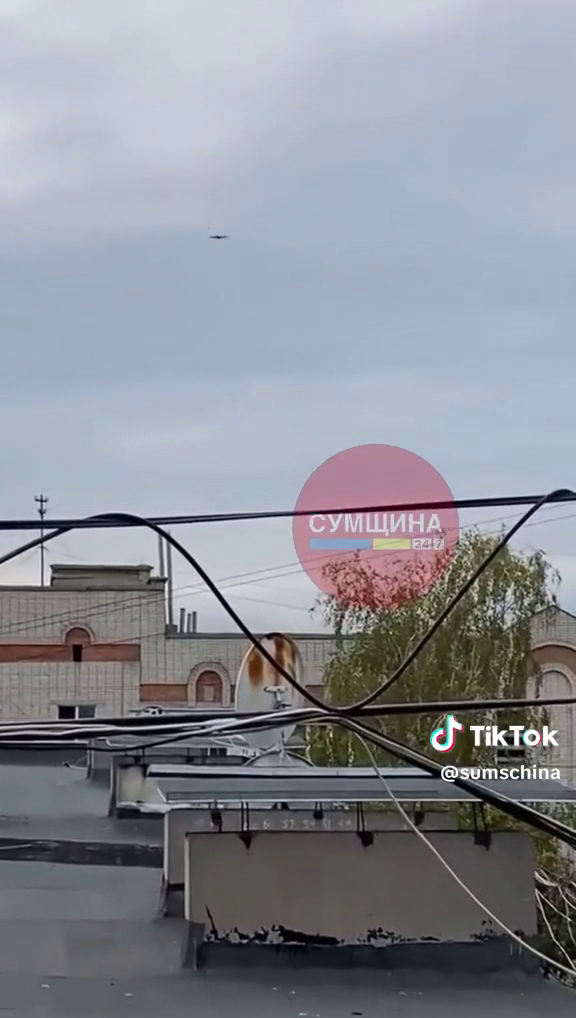shahed: (209, 235, 227, 240)
